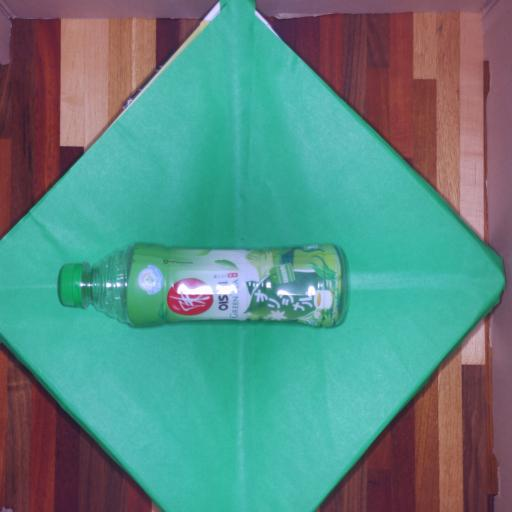bottle: (56, 241, 352, 333)
